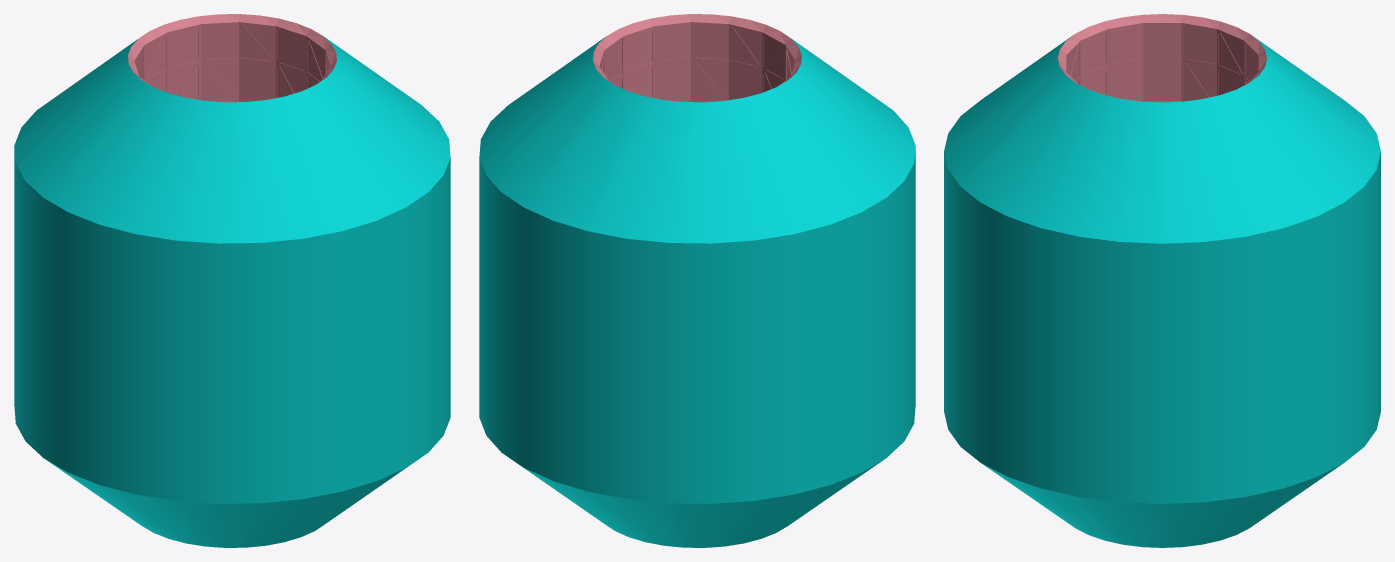
The model's file is station_hub_B.dae.
The picture shows the model from 3 angles, left to right: view 1: azimuth 30°, elevation 25°; view 2: azimuth 150°, elevation 25°; view 3: azimuth 270°, elevation 25°; orthographic projection.
Visible parts, largest first — view 1: ext_A, wall_EXIT_002; view 2: ext_A, wall_EXIT_002; view 3: ext_A, wall_EXIT_002.
Boxes of the visible parts, x1,y1,x2,y2 form: ext_A: [14, 37, 450, 547]; wall_EXIT_002: [128, 14, 336, 102]; ext_A: [479, 37, 915, 547]; wall_EXIT_002: [593, 14, 801, 102]; ext_A: [944, 36, 1380, 547]; wall_EXIT_002: [1058, 14, 1266, 102].
Bounding box in the file's own units: 316 × 316 × 356.
